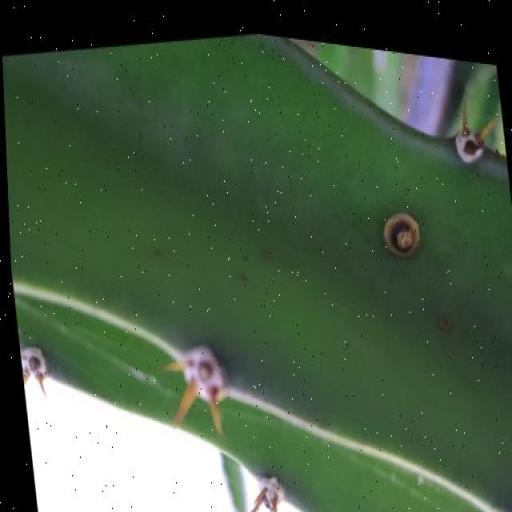stemcanker: (437, 304, 457, 335)
